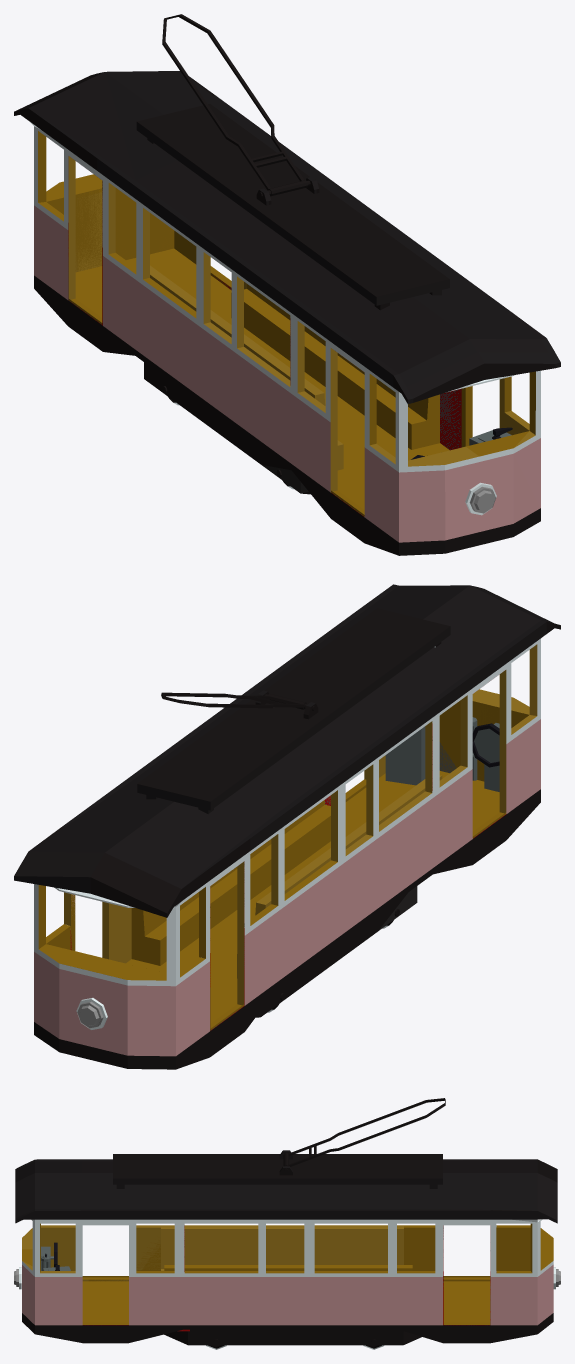
Rendered from tram.glb.
3 renders of one model, top to bottom at view 1: azimuth 30°, elevation 25°; view 2: azimuth 150°, elevation 25°; view 3: azimuth 270°, elevation 25°, orthographic. The views are drawn at different scales.
Visible parts, largest first — view 1: traim_2, pantograph_3; view 2: traim_2, pantograph_3; view 3: traim_2, pantograph_3.
Part boxes in pixels (x1,y1,x2,y2): traim_2: (14,71,560,555); pantograph_3: (162,14,315,197); traim_2: (14,584,560,1069); pantograph_3: (161,692,315,710); traim_2: (14,1150,560,1345); pantograph_3: (283,1098,445,1172).
Size of the model in its own units: 1.04 by 2.21 by 4.68.
Materials: 3 (1 with a texture image).
